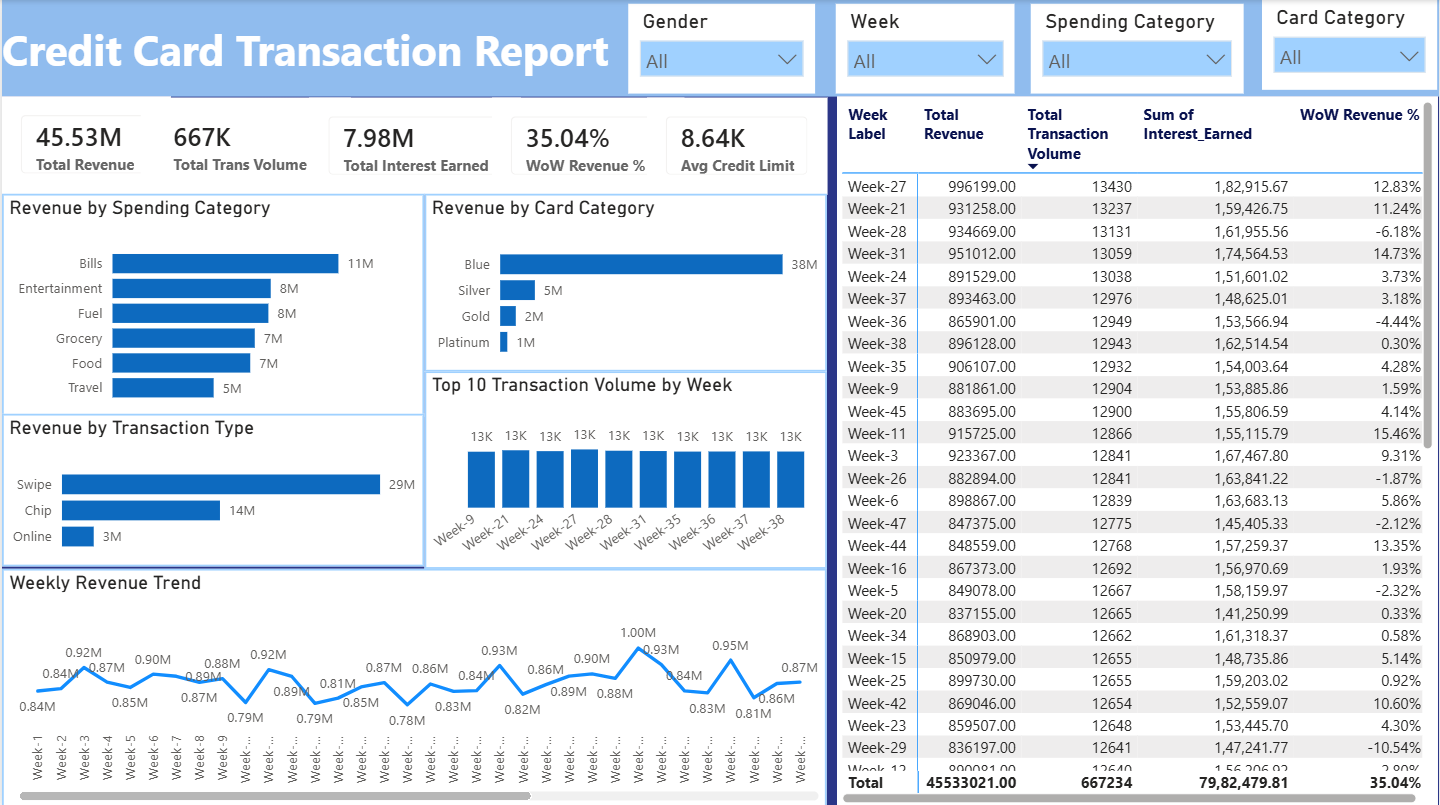

The dashboard page shown, as its layout file describes it:
{"tool":"powerbi","page":{"name":"Credit Card Transaction Report","canvas":[1280,720],"ordinal":1},"visuals":[{"type":"shape","title":"CREDIT CARD CUSTOMER REPORT       ","box":[0,0,1280.2,86],"z":0},{"type":"slicer","fields":{"Values":["DimCustomer.Gender"]},"box":[743,3.5,159.3,80.2],"z":1},{"type":"cardVisual","fields":{"Data":["FactCreditCard.Total Revenue"]},"box":[0,85.7,150.3,86.8],"z":5},{"type":"cardVisual","fields":{"Data":["FactCreditCard.Total Transaction Volume"]},"box":[123.6,86.8,187.2,86],"z":6},{"type":"cardVisual","fields":{"Data":["FactCreditCard.Total Interest Earned"]},"box":[273.8,86.8,188.4,86],"z":7},{"type":"cardVisual","fields":{"Data":["DimWeek.WoW Revenue %"]},"box":[436.4,86.8,170.9,86],"z":8},{"type":"cardVisual","fields":{"Data":["FactCreditCard.Avg Credit Limit"]},"box":[574.4,86.8,160.5,86],"z":9},{"type":"lineChart","title":"Weekly Revenue Trend","fields":{"Y":["FactCreditCard.Total Revenue"],"Category":["DimWeek.Week Label"]},"box":[0,506.5,734.7,213.7],"z":10},{"type":"clusteredColumnChart","title":"Top 10 Transaction Volume by Week","fields":{"Category":["DimWeek.Week Label"],"Y":["FactCreditCard.Total Transaction Volume"]},"box":[376.3,330.6,358.4,175.9],"z":11},{"type":"barChart","title":"Revenue by Spending Category","fields":{"Category":["FactCreditCard.Exp Type"],"Y":["FactCreditCard.Total Revenue"]},"box":[0,172.5,376.3,198.1],"z":12},{"type":"barChart","title":"Revenue by Card Category","fields":{"Category":["FactCreditCard.Card_Category"],"Y":["FactCreditCard.Total Revenue"]},"box":[376.3,172.5,358.4,158.1],"z":14},{"type":"barChart","title":"Revenue by Transaction Type","fields":{"Category":["FactCreditCard.Use Chip"],"Y":["FactCreditCard.Total Revenue"]},"box":[0,368.5,376.3,135.8],"z":15},{"type":"pivotTable","fields":{"Rows":["DimWeek.Week Label"],"Values":["FactCreditCard.Total Revenue","FactCreditCard.Total Transaction Volume","Sum(FactCreditCard.Interest_Earned)","DimWeek.WoW Revenue %"]},"box":[743.6,85.7,535.4,634.5],"z":16},{"type":"slicer","fields":{"Values":["DimCustomer.Gender"]},"box":[558.1,3.5,166.3,80.2],"z":17},{"type":"slicer","fields":{"Values":["FactCreditCard.Exp Type"]},"box":[916.3,3.5,189.5,80.2],"z":18},{"type":"slicer","fields":{"Values":["FactCreditCard.Card_Category"]},"box":[1122.1,0,155.8,80.2],"z":19}]}

Visuals, with their boxes in screenshot pixels (x1, y1, x2, y2), scaled from the page's 1280x720 canvas onto the 1440x805 screenshot:
"CREDIT CARD CUSTOMER REPORT       " shape: bbox(0, 0, 1439, 96)
slicer - DimCustomer.Gender: bbox(836, 4, 1015, 94)
cardVisual - FactCreditCard.Total Revenue: bbox(0, 96, 169, 193)
cardVisual - FactCreditCard.Total Transaction Volume: bbox(139, 97, 350, 193)
cardVisual - FactCreditCard.Total Interest Earned: bbox(308, 97, 520, 193)
cardVisual - DimWeek.WoW Revenue %: bbox(491, 97, 683, 193)
cardVisual - FactCreditCard.Avg Credit Limit: bbox(646, 97, 827, 193)
"Weekly Revenue Trend" lineChart: bbox(0, 566, 827, 804)
"Top 10 Transaction Volume by Week" clusteredColumnChart: bbox(423, 370, 827, 566)
"Revenue by Spending Category" barChart: bbox(0, 193, 423, 414)
"Revenue by Card Category" barChart: bbox(423, 193, 827, 370)
"Revenue by Transaction Type" barChart: bbox(0, 412, 423, 564)
pivotTable - DimWeek.Week Label x FactCreditCard.Total Revenue: bbox(837, 96, 1439, 804)
slicer - DimCustomer.Gender: bbox(628, 4, 815, 94)
slicer - FactCreditCard.Exp Type: bbox(1031, 4, 1244, 94)
slicer - FactCreditCard.Card_Category: bbox(1262, 0, 1438, 90)
